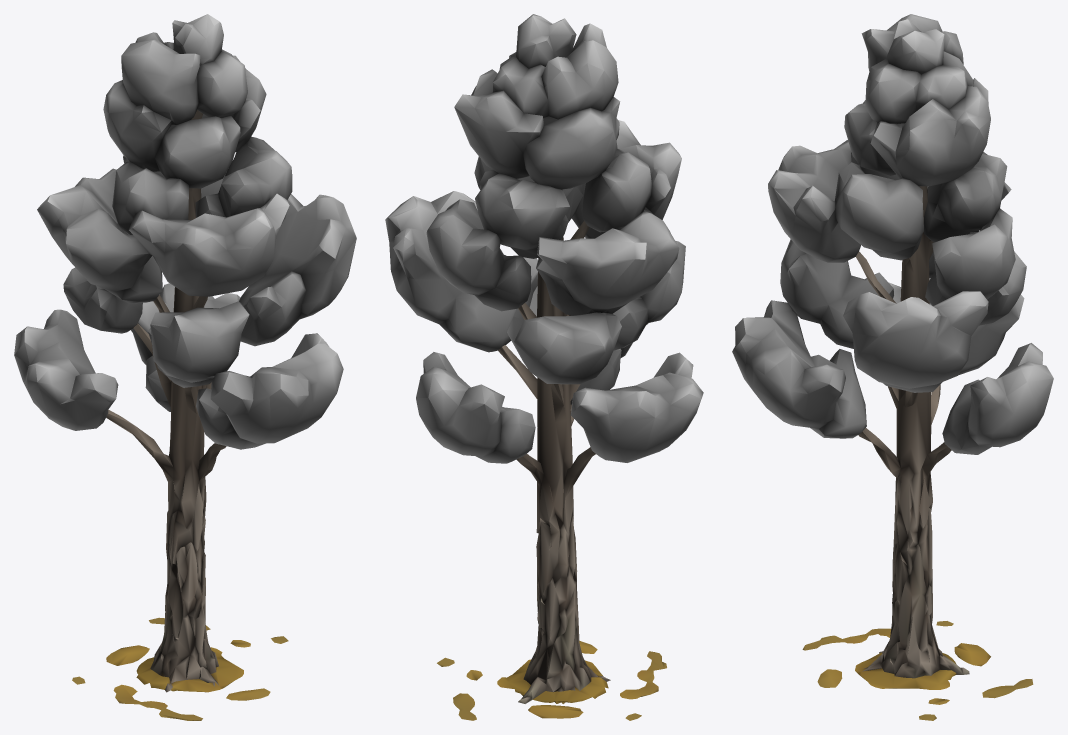
Rendered from ginkgo_a.glb.
3 renders of one model, left to right at view 1: azimuth 30°, elevation 25°; view 2: azimuth 150°, elevation 25°; view 3: azimuth 270°, elevation 25°, orthographic.
Parts seen in each view (by area): view 1: ginkgo_a_LOD0; view 2: ginkgo_a_LOD0; view 3: ginkgo_a_LOD0.
Boxes of the visible parts, bbox=[...] form: ginkgo_a_LOD0: bbox=[14, 14, 356, 720]; ginkgo_a_LOD0: bbox=[385, 14, 703, 720]; ginkgo_a_LOD0: bbox=[732, 14, 1053, 720].
Size of what is drawn, in the model's own units: 5.36 by 10.78 by 4.83.
